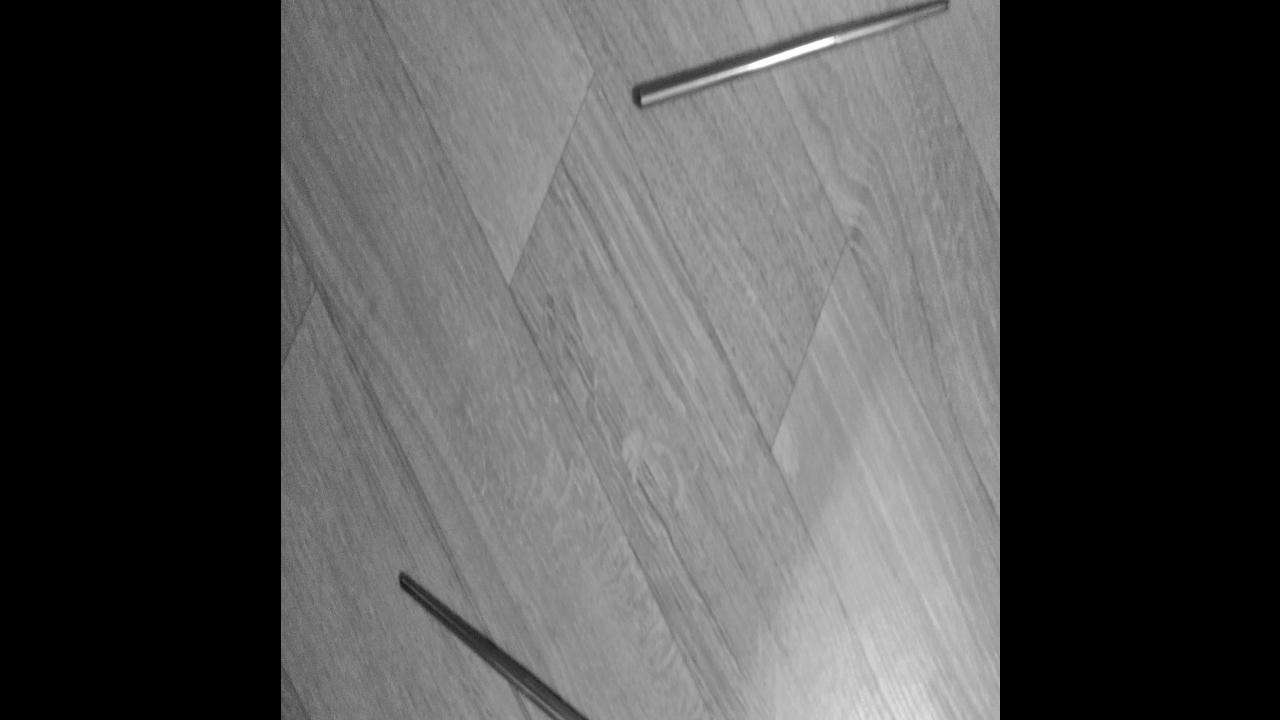chopstick: (398, 518, 742, 720), (625, 0, 953, 132)
